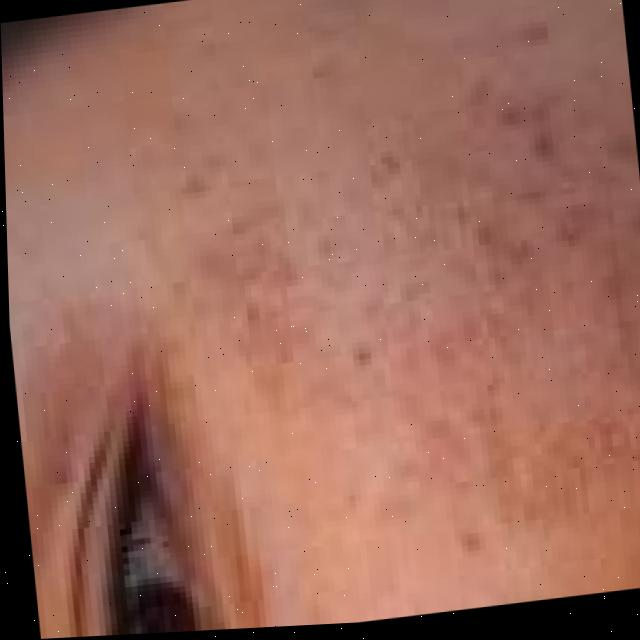Melasma: (223, 90, 640, 454)
